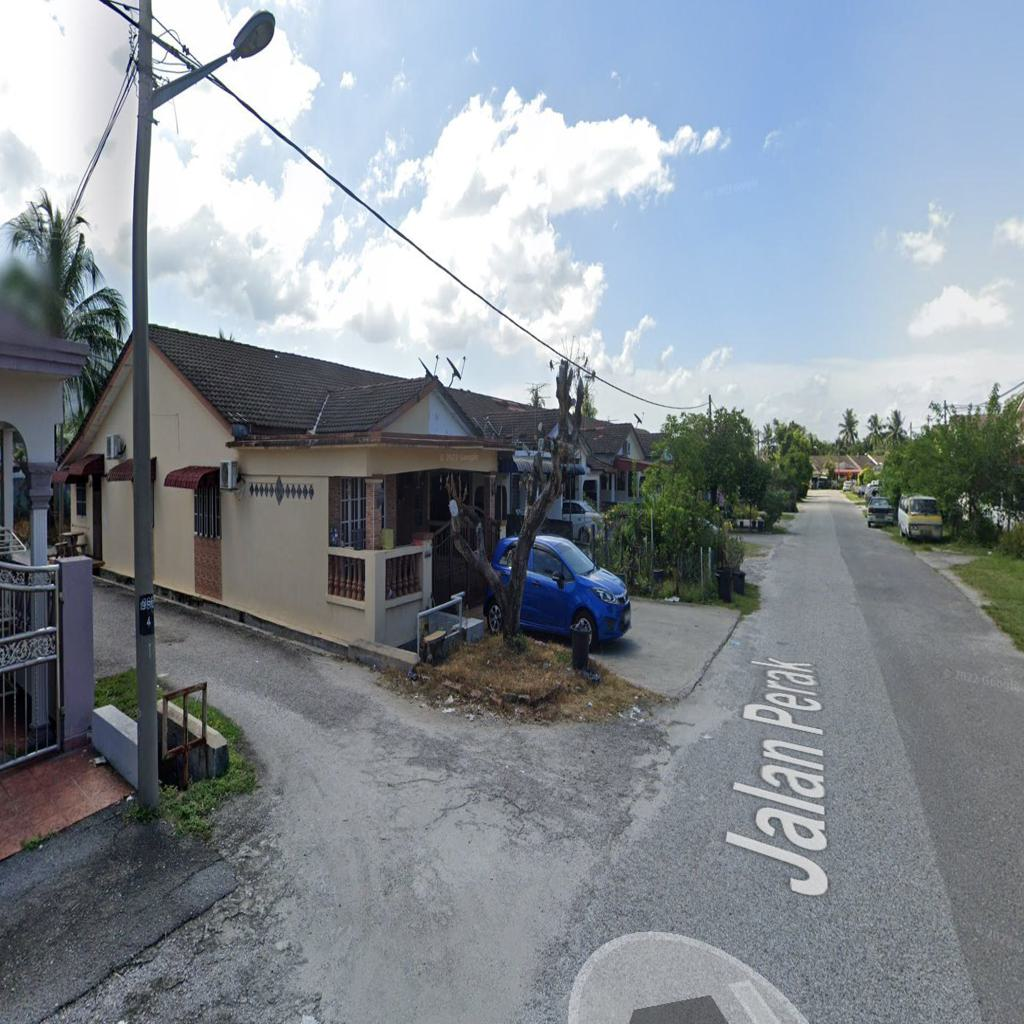Junction: (107, 562, 669, 979)
